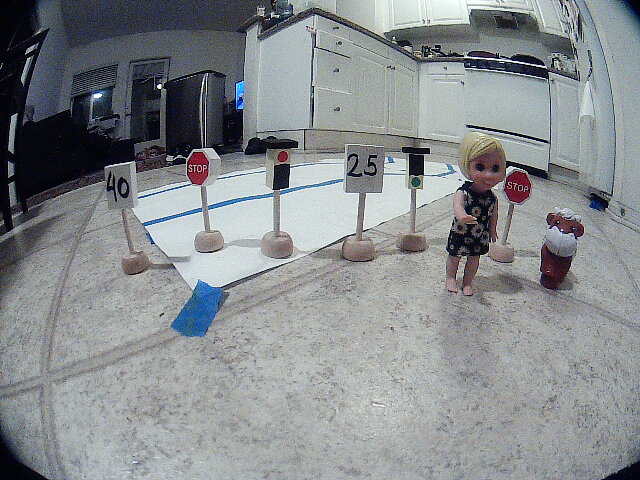Cow: (543, 203, 596, 314)
Green Traffic Light: (399, 147, 437, 198)
Person: (448, 132, 509, 308)
Red Traffic Light: (257, 135, 303, 195)
Speed Limit 25: (341, 142, 392, 198)
Speed Limit 40: (92, 159, 147, 217)
Stop Sign: (178, 149, 227, 191), (503, 162, 537, 208)
